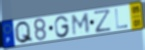8: (33, 17, 47, 42)
G: (54, 15, 71, 39)
L: (114, 8, 129, 31)
M: (72, 12, 91, 37)
Q: (14, 20, 35, 44)
Z: (93, 8, 113, 34)
